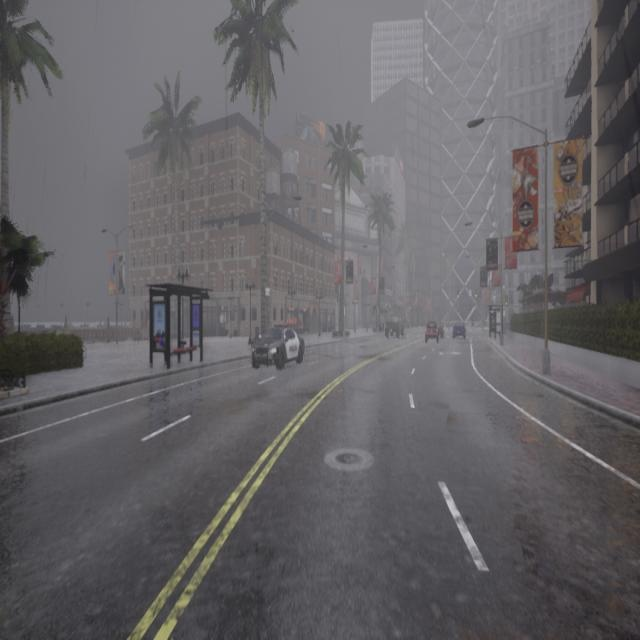bien_chi_dan: (456, 288, 460, 298), (505, 296, 508, 306), (475, 289, 478, 297), (505, 302, 508, 307), (457, 294, 459, 298), (475, 294, 477, 298)
